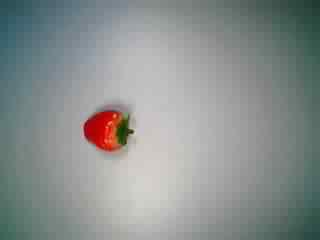strawberry: (65, 96, 138, 160)
